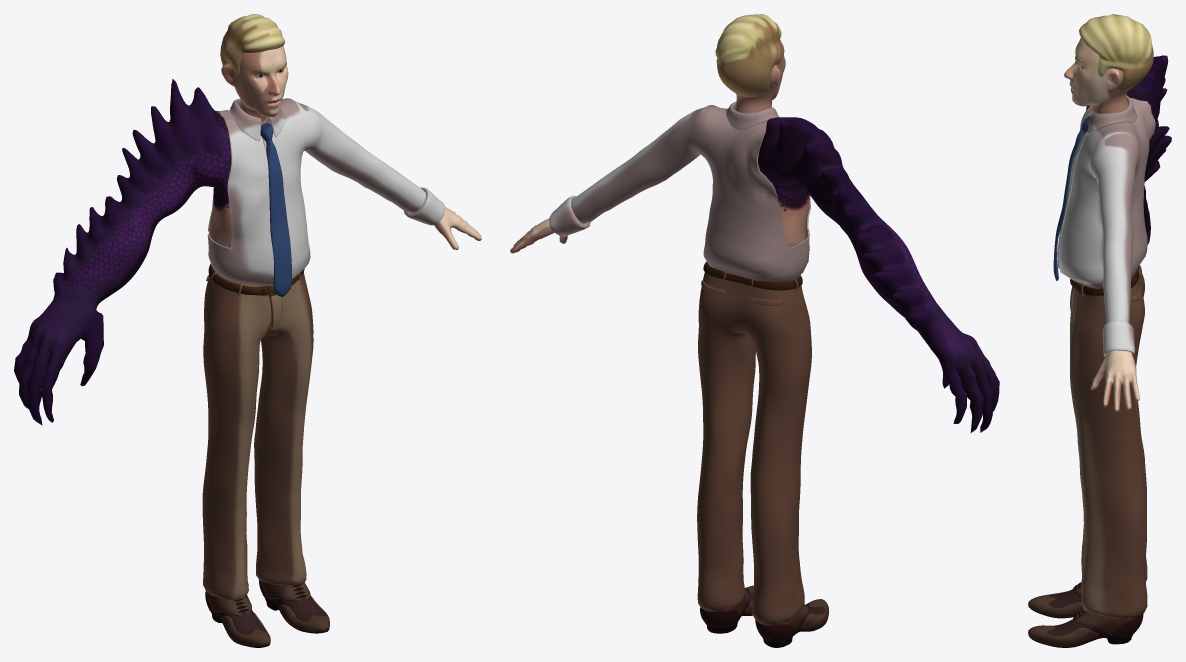
Rendered from leonard_stylized_3.fbx.
3 renders of one model, left to right at view 1: azimuth 30°, elevation 25°; view 2: azimuth 150°, elevation 25°; view 3: azimuth 270°, elevation 25°, orthographic. The views are drawn at different scales.
Parts seen in each view (by area): view 1: Leonard_human_retopo:pants_LP, demon_arm_GEO, Leonard_human_retopo:shirt_LP, head_GEO, tie_GEO, hair_GEO, Leonard_human_retopo:collar_LP, hand_GEO, Leonard_human_retopo:shirt_cuff_LP, shoe_decor_3_LP, Leonard_human_retopo:shoe_decor_3_LP, shoe_LP; view 2: Leonard_human_retopo:pants_LP, demon_arm_GEO, Leonard_human_retopo:shirt_LP, hair_GEO, head_GEO, Leonard_human_retopo:shirt_cuff_LP, Leonard_human_retopo:belt_1_LP, Leonard_human_retopo:collar_LP; view 3: Leonard_human_retopo:pants_LP, Leonard_human_retopo:shirt_LP, hair_GEO, head_GEO, demon_arm_GEO, hand_GEO, Leonard_human_retopo:shirt_cuff_LP, shoe_decor_3_LP, Leonard_human_retopo:collar_LP, Leonard_human_retopo:shoe_decor_3_LP, shoe_decor_1_LP, tie_GEO (+6 smaller).
Boxes of the visible parts, bbox=[...] form: Leonard_human_retopo:pants_LP: bbox=[202, 268, 313, 600]; demon_arm_GEO: bbox=[14, 79, 231, 425]; Leonard_human_retopo:shirt_LP: bbox=[207, 98, 425, 285]; head_GEO: bbox=[221, 46, 288, 122]; tie_GEO: bbox=[265, 140, 291, 297]; hair_GEO: bbox=[220, 14, 285, 75]; Leonard_human_retopo:collar_LP: bbox=[230, 98, 284, 141]; hand_GEO: bbox=[434, 207, 481, 249]; Leonard_human_retopo:shirt_cuff_LP: bbox=[404, 187, 445, 225]; shoe_decor_3_LP: bbox=[279, 596, 329, 631]; Leonard_human_retopo:shoe_decor_3_LP: bbox=[221, 612, 270, 645]; shoe_LP: bbox=[273, 586, 325, 631]; Leonard_human_retopo:pants_LP: bbox=[697, 264, 811, 625]; demon_arm_GEO: bbox=[757, 117, 999, 432]; Leonard_human_retopo:shirt_LP: bbox=[570, 105, 810, 282]; hair_GEO: bbox=[715, 14, 782, 96]; head_GEO: bbox=[716, 39, 785, 113]; Leonard_human_retopo:shirt_cuff_LP: bbox=[549, 195, 590, 236]; Leonard_human_retopo:belt_1_LP: bbox=[703, 261, 802, 290]; Leonard_human_retopo:collar_LP: bbox=[726, 102, 778, 129]; Leonard_human_retopo:pants_LP: bbox=[1070, 266, 1147, 618]; Leonard_human_retopo:shirt_LP: bbox=[1059, 98, 1155, 323]; hair_GEO: bbox=[1079, 14, 1153, 92]; head_GEO: bbox=[1064, 38, 1128, 113]; demon_arm_GEO: bbox=[1086, 55, 1171, 244]; hand_GEO: bbox=[1091, 350, 1139, 411]; Leonard_human_retopo:shirt_cuff_LP: bbox=[1102, 320, 1134, 356]; shoe_decor_3_LP: bbox=[1028, 625, 1098, 646]; Leonard_human_retopo:collar_LP: bbox=[1087, 95, 1137, 134]; Leonard_human_retopo:shoe_decor_3_LP: bbox=[1028, 591, 1083, 617]; shoe_decor_1_LP: bbox=[1073, 610, 1134, 634]; tie_GEO: bbox=[1053, 130, 1085, 280].
Size of the model in its own units: 35.84 by 44.52 by 9.52.
1 material, 1 textured.
